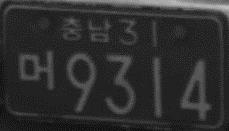1: (144, 58, 170, 116), (146, 21, 165, 46)
3: (104, 53, 136, 114), (117, 18, 138, 45)
4: (180, 59, 211, 121)
9: (66, 52, 96, 113)
머: (17, 50, 55, 89)
충남_O: (62, 15, 112, 42)
